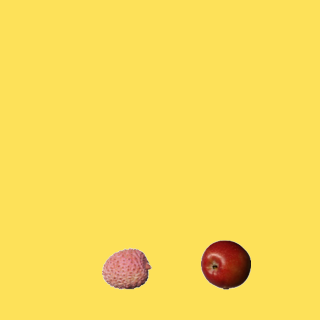Apple Braeburn: (200, 239, 250, 289)
Lychee: (101, 243, 151, 293)
